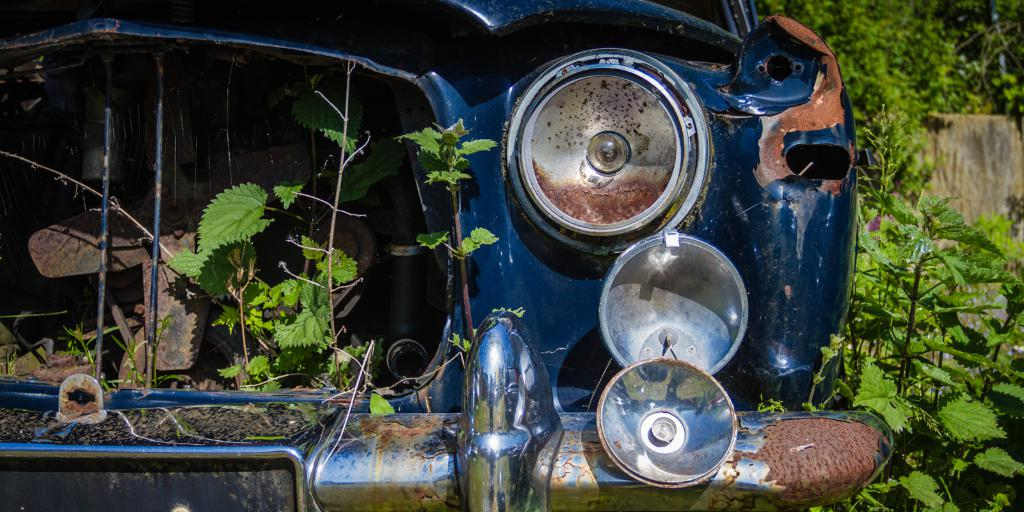cars: (0, 0, 893, 511)
